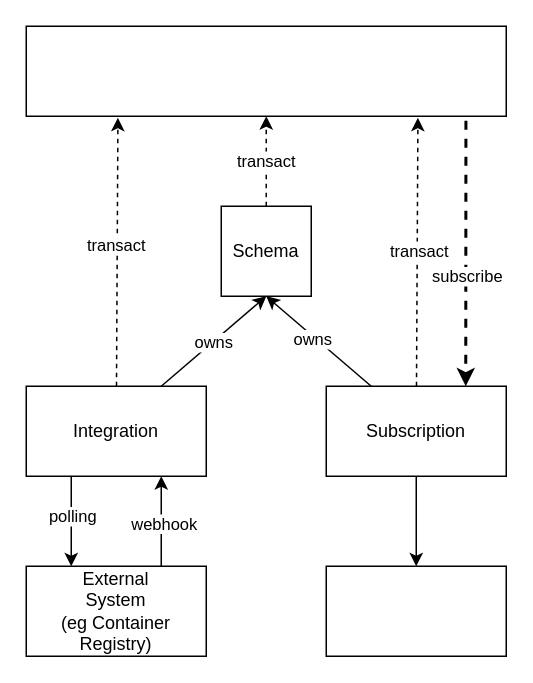
This 533x683 diagram has some shape labels left out. The box of each missing label's shape, as (x1, y1, x2, y2) in pixels:
Action (eg analyze image): (325, 565, 506, 656)
Control Plane: (25, 25, 506, 116)
